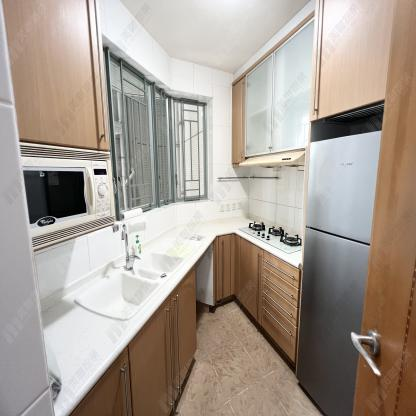Cupboard: (71, 263, 197, 414), (1, 0, 111, 152), (214, 233, 302, 369), (232, 15, 313, 162)
Exhaust Hood: (240, 151, 305, 167)
Fridge: (298, 130, 380, 415)
Microwave: (23, 157, 111, 240)
Sink: (74, 251, 182, 317)
Stove: (238, 219, 301, 254)
